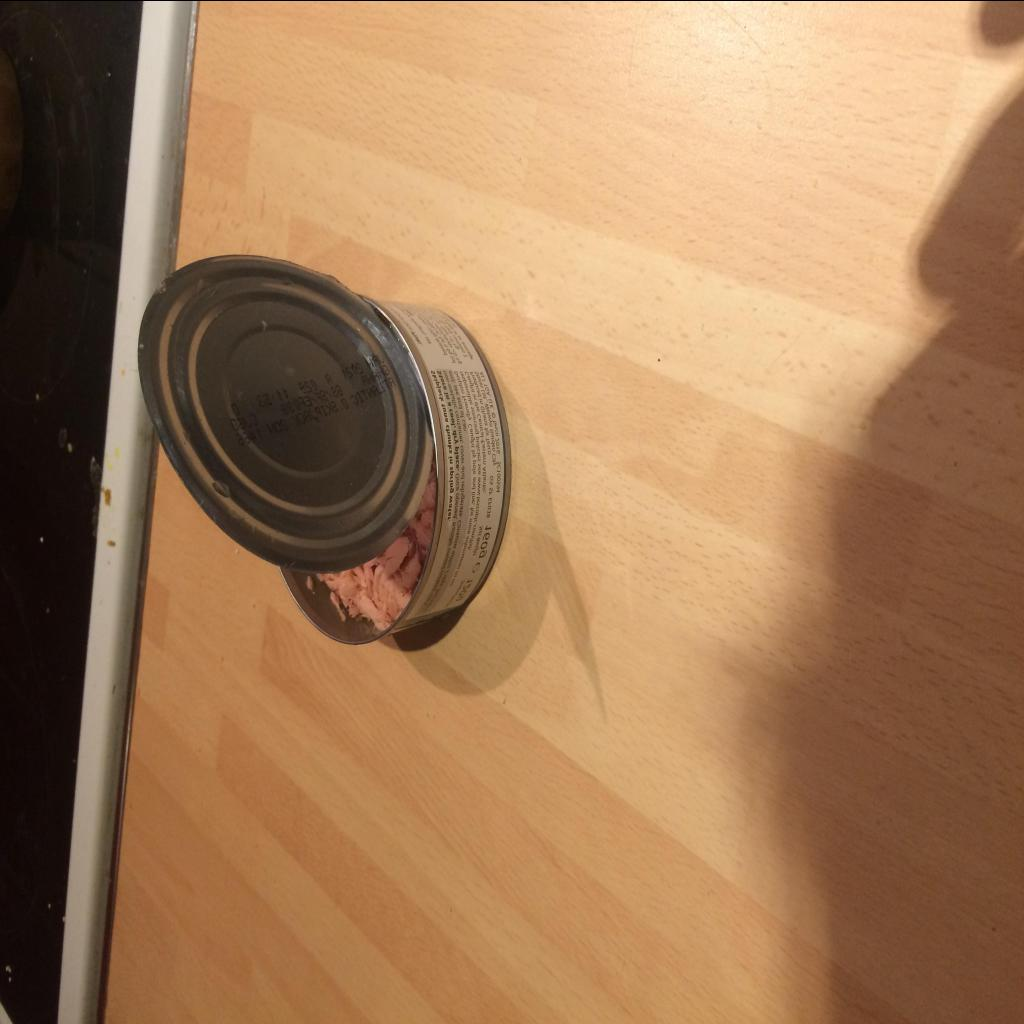Food Can: (138, 254, 512, 644)
Food waste: (316, 468, 436, 630)
